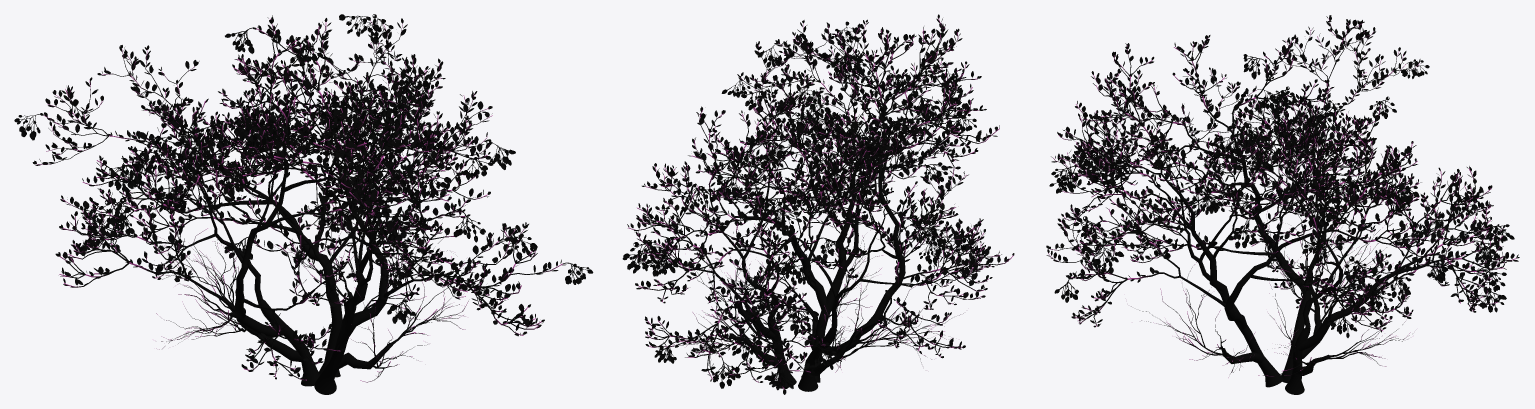
File: 3DTree_Arctostaphylos manzanita_07.FBX
3 views of the same model, side by side, from view 1: azimuth 30°, elevation 25°; view 2: azimuth 150°, elevation 25°; view 3: azimuth 270°, elevation 25° (orthographic). The views are drawn at different scales.
Parts seen in each view (by area): view 1: 3DTree_Arctostaphylos manzanita_07; view 2: 3DTree_Arctostaphylos manzanita_07; view 3: 3DTree_Arctostaphylos manzanita_07.
Boxes of the visible parts, x1,y1,x2,y2 form: 3DTree_Arctostaphylos manzanita_07: (14, 14, 593, 394); 3DTree_Arctostaphylos manzanita_07: (622, 14, 1014, 394); 3DTree_Arctostaphylos manzanita_07: (1046, 15, 1519, 394).
Size of the model in its own units: 286 by 252 by 330.
